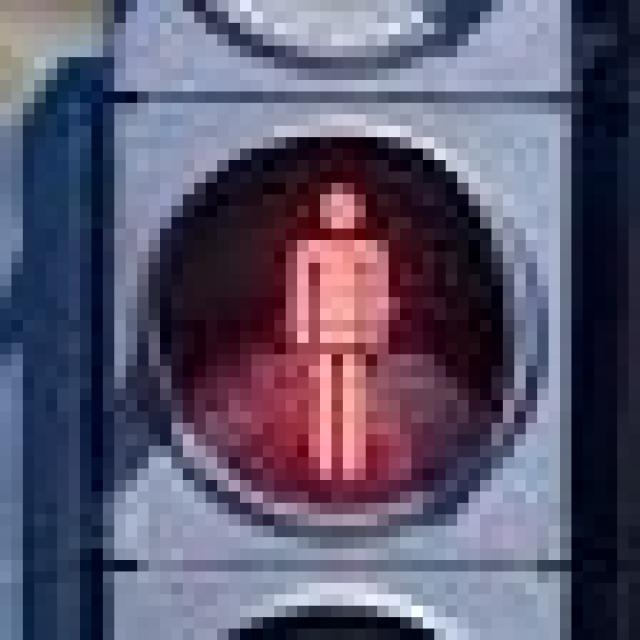red-crossing: (217, 137, 423, 514)
